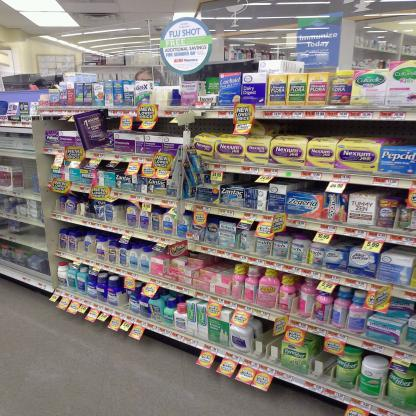Void: (275, 122, 410, 138), (263, 322, 279, 356), (197, 121, 230, 132), (212, 256, 232, 272), (303, 182, 324, 192), (162, 119, 176, 132), (232, 176, 254, 184)
